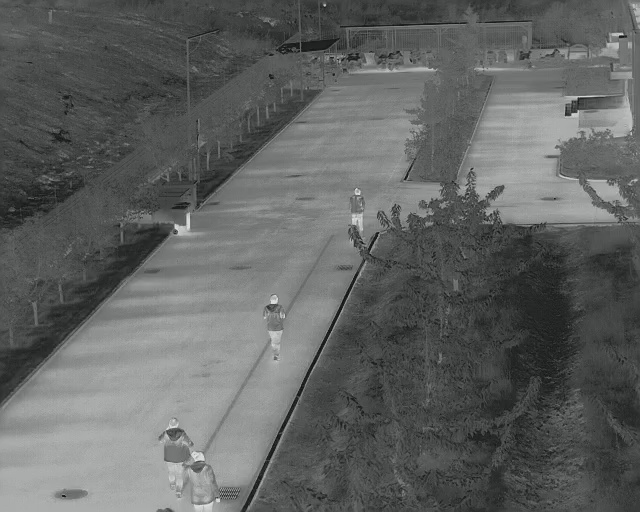person: (156, 416, 193, 494), (178, 450, 223, 512), (261, 293, 288, 367), (348, 185, 367, 239)
